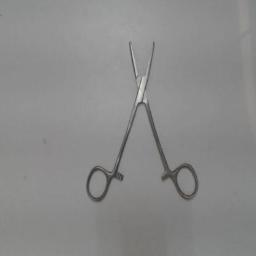Mayo Needle Holder: (82, 32, 202, 206)
